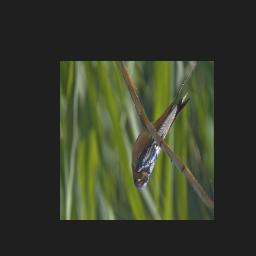Swallow: (131, 71, 192, 190)
